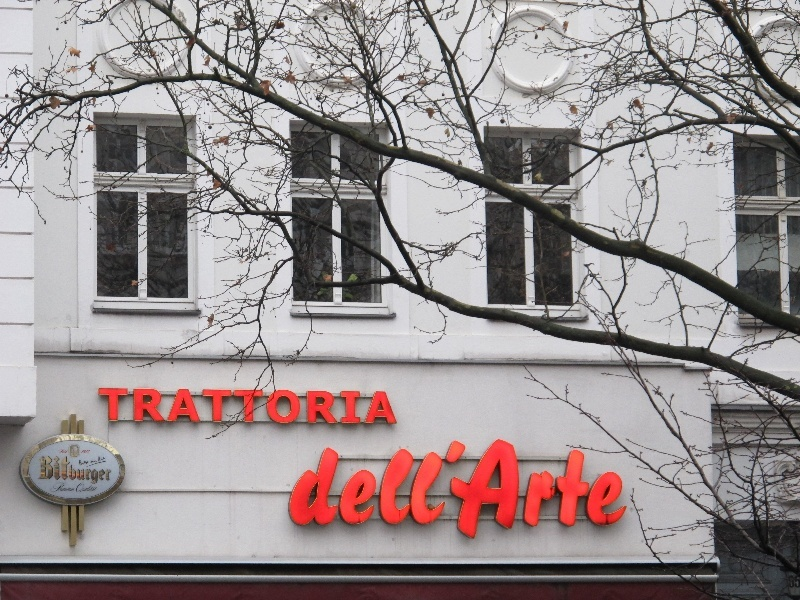text: (305, 438, 320, 543), (321, 438, 336, 543), (337, 438, 352, 543), (353, 438, 368, 543), (369, 438, 384, 543), (385, 438, 400, 543), (401, 438, 416, 543), (417, 438, 432, 543), (433, 438, 448, 543), (449, 438, 464, 543), (465, 438, 480, 543), (481, 438, 496, 543), (497, 438, 512, 543), (513, 438, 528, 543), (529, 438, 544, 543), (545, 438, 560, 543), (561, 438, 576, 543), (577, 438, 592, 543), (593, 438, 608, 543), (609, 438, 624, 543), (296, 438, 304, 543), (113, 388, 128, 425), (129, 388, 144, 425), (145, 388, 160, 425), (161, 388, 176, 425), (177, 388, 192, 425), (193, 388, 208, 425), (209, 388, 224, 425), (225, 388, 240, 425), (241, 388, 256, 425), (257, 388, 272, 425), (273, 388, 288, 425), (289, 388, 304, 425), (305, 388, 320, 425), (321, 388, 336, 425), (337, 388, 352, 425), (353, 388, 368, 425), (369, 388, 384, 425), (99, 388, 112, 425), (385, 388, 398, 425), (49, 457, 64, 481), (625, 438, 628, 543), (81, 465, 96, 484), (97, 465, 111, 484), (69, 465, 80, 484), (40, 457, 48, 481), (81, 483, 96, 493), (65, 457, 70, 481), (65, 483, 77, 493), (53, 483, 64, 493), (98, 457, 112, 462), (84, 450, 96, 454), (81, 461, 89, 466), (78, 483, 80, 493), (97, 483, 99, 493), (65, 450, 69, 454), (91, 460, 96, 463), (61, 450, 64, 454), (79, 461, 80, 466)
